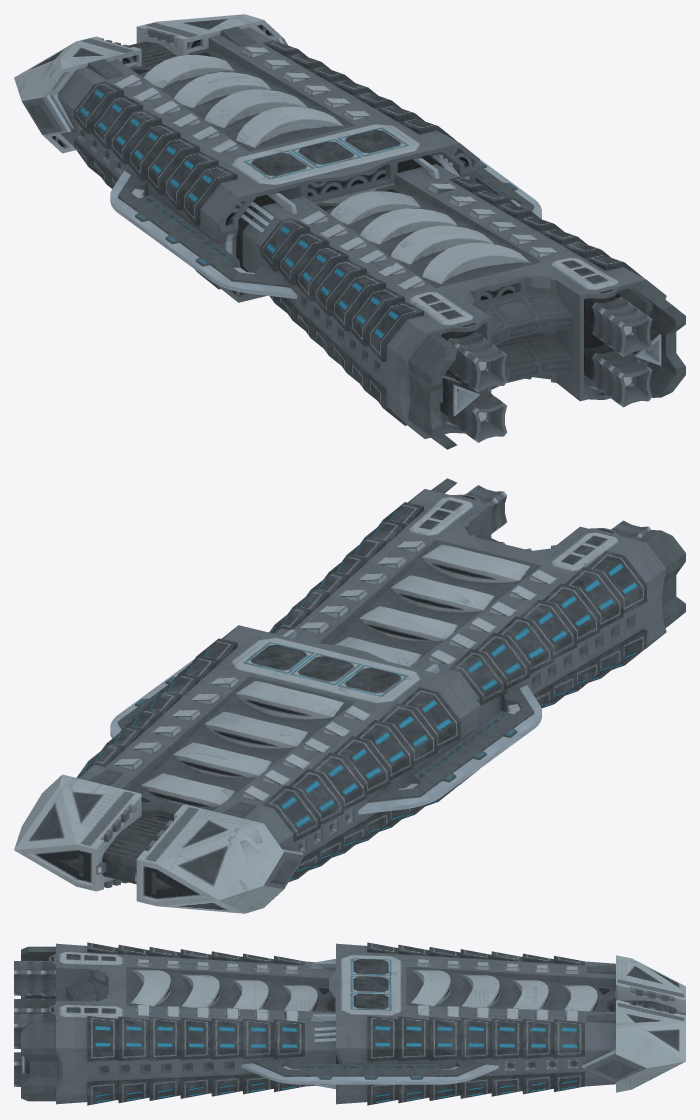
File: dawn-ship.glb
3 views of the same model, one above another, from view 1: azimuth 30°, elevation 25°; view 2: azimuth 150°, elevation 25°; view 3: azimuth 270°, elevation 25° (orthographic). The views are drawn at different scales.
Parts seen in each view (by area): view 1: Dawn_Rescue_Carrier_Archimedes; view 2: Dawn_Rescue_Carrier_Archimedes; view 3: Dawn_Rescue_Carrier_Archimedes.
Part boxes in pixels (box(x1,y1,x2,y2)): Dawn_Rescue_Carrier_Archimedes: box(14, 14, 685, 449); Dawn_Rescue_Carrier_Archimedes: box(14, 478, 685, 913); Dawn_Rescue_Carrier_Archimedes: box(14, 942, 685, 1105).
Size of the model in its own units: 10 by 3.49 by 24.
Materials: 1 (1 with a texture image).
